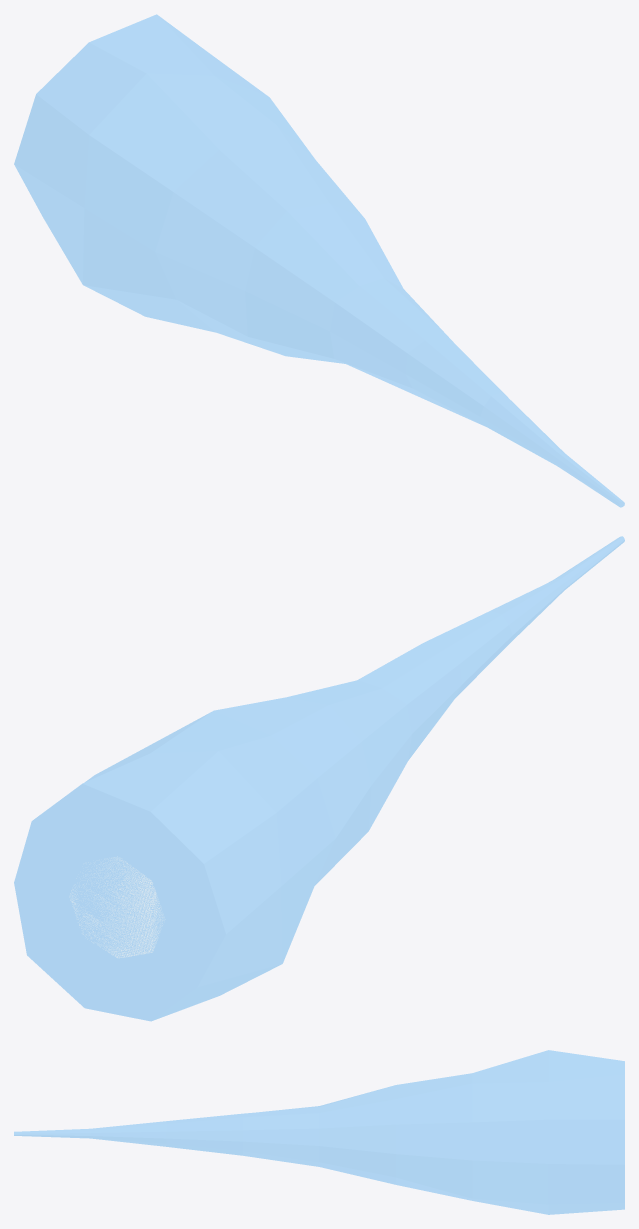
The model's file is retro_jet.glb.
3 views of the same model, one above another, from view 1: azimuth 30°, elevation 25°; view 2: azimuth 150°, elevation 25°; view 3: azimuth 270°, elevation 25° (orthographic). The views are drawn at different scales.
Visible parts, largest first — view 1: retro_jet; view 2: retro_jet; view 3: retro_jet.
Boxes of the visible parts, bbox=[...] form: retro_jet: bbox=[14, 14, 624, 507]; retro_jet: bbox=[14, 536, 624, 1021]; retro_jet: bbox=[14, 1050, 624, 1214].
Size of the model in its own units: 0.1507 by 0.166 by 0.62.
